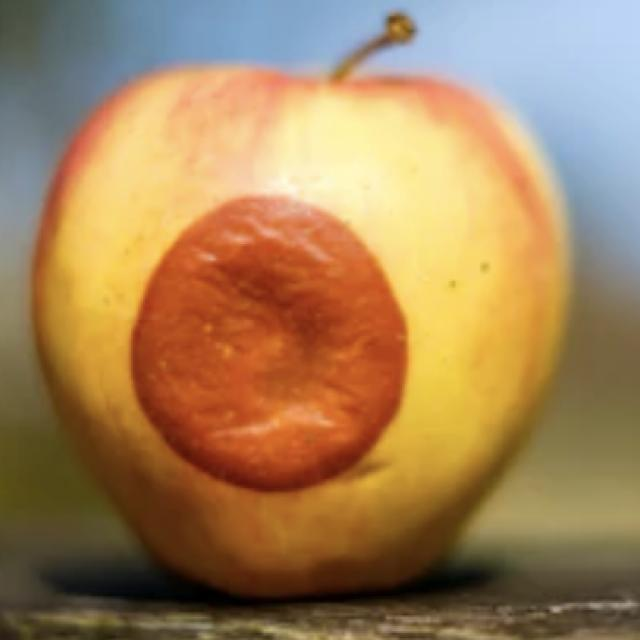Rotten: (33, 53, 561, 640)
